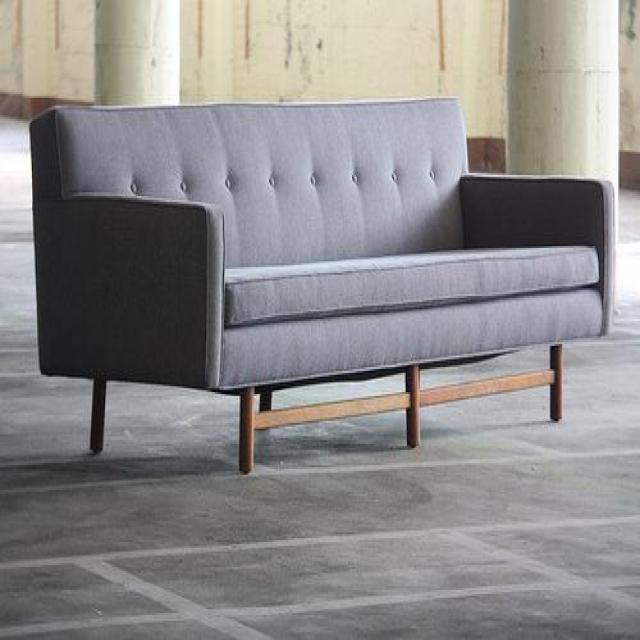sofa: (28, 94, 616, 473)
